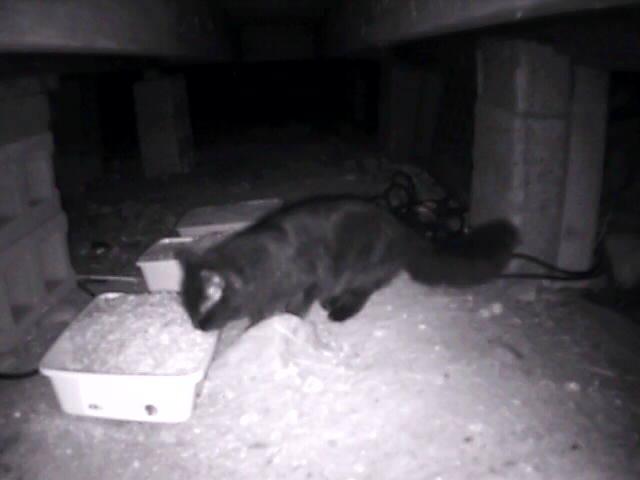house cat: (171, 210, 534, 320)
